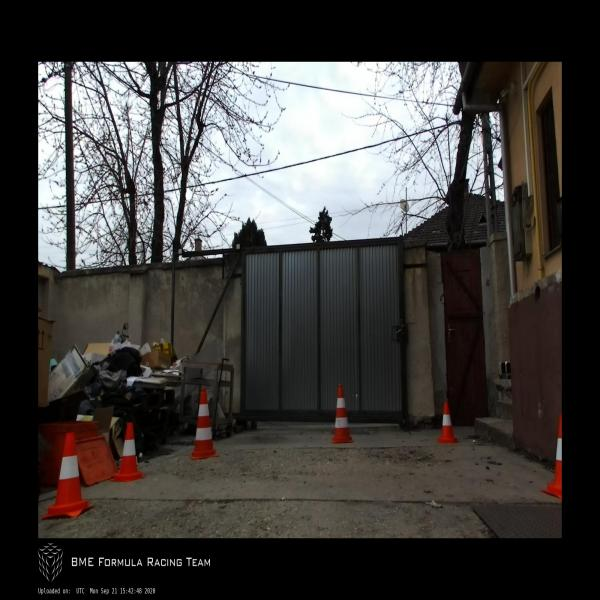large_orange_cone: (190, 387, 219, 460), (330, 384, 354, 444)
orange_cone: (40, 431, 93, 519), (111, 422, 145, 482), (541, 415, 562, 501), (437, 402, 459, 443)
